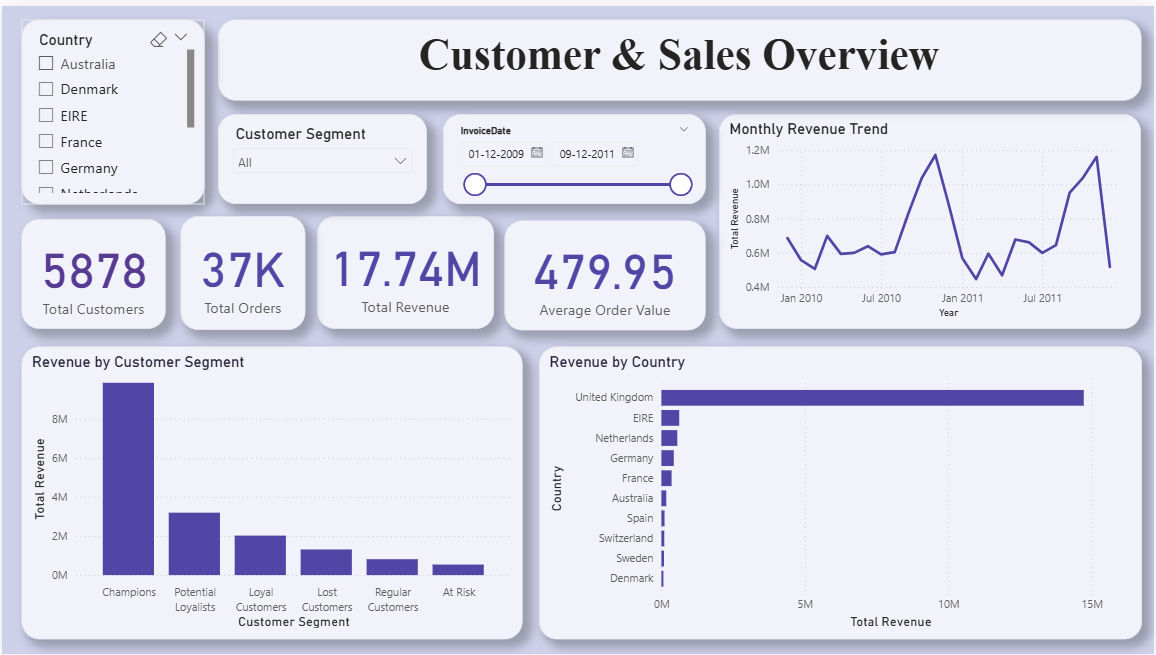

This screenshot's page, from the dashboard's own definition file:
{"tool":"powerbi","page":{"name":"Customer & Sales Overview","canvas":[1280,720],"ordinal":0},"visuals":[{"type":"card","fields":{"Values":["RetailData.Total Revenue"]},"box":[350,233.3,196.7,125],"z":0},{"type":"clusteredColumnChart","title":"Revenue by Customer Segment","fields":{"Category":["CustomerSummary.Customer Segment"],"Y":["Sum(CustomerSummary.Total Revenue)"]},"box":[21.7,378.3,556.7,325],"z":1000},{"type":"lineChart","title":"Monthly Revenue Trend","fields":{"Y":["RetailData.Total Revenue"],"Category":["RetailData.InvoiceDate.Variation.Date Hierarchy.Year","RetailData.InvoiceDate.Variation.Date Hierarchy.Month"]},"box":[796.7,120,468.3,238.3],"z":2000},{"type":"clusteredBarChart","title":"Revenue by Country","fields":{"Category":["RetailData.Country"],"Y":["RetailData.Total Revenue"]},"box":[596.7,378.3,670,325],"z":3000},{"type":"textbox","box":[240,14.3,1025.7,90],"z":4000},{"type":"slicer","fields":{"Values":["RetailData.Country"]},"box":[21.7,15,203.3,205],"z":5000},{"type":"slicer","fields":{"Values":["CustomerSummary.Customer Segment"]},"box":[240,120,231.7,100],"z":6000},{"type":"slicer","fields":{"Values":["RetailData.InvoiceDate"]},"box":[490,120,291.7,100],"z":7000},{"type":"card","fields":{"Values":["Table.Total Orders"]},"box":[198.3,233.3,138.3,126.7],"z":8000},{"type":"card","fields":{"Values":["Table.Total Customers"]},"box":[21.7,236.7,160,121.7],"z":9000},{"type":"card","fields":{"Values":["Measures Table.Average Order Value"]},"box":[558.3,238.3,223.3,121.7],"z":10000}]}

Visuals, with their boxes in screenshot pixels (x1, y1, x2, y2), scaled from the page's 1280x720 canvas onto the 1156x655 screenshot:
card - RetailData.Total Revenue: (316,212,494,326)
"Revenue by Customer Segment" clusteredColumnChart: (20,344,522,640)
"Monthly Revenue Trend" lineChart: (720,109,1142,326)
"Revenue by Country" clusteredBarChart: (539,344,1144,640)
textbox: (217,13,1143,95)
slicer - RetailData.Country: (20,14,203,200)
slicer - CustomerSummary.Customer Segment: (217,109,426,200)
slicer - RetailData.InvoiceDate: (443,109,706,200)
card - Table.Total Orders: (179,212,304,328)
card - Table.Total Customers: (20,215,164,326)
card - Measures Table.Average Order Value: (504,217,706,328)
